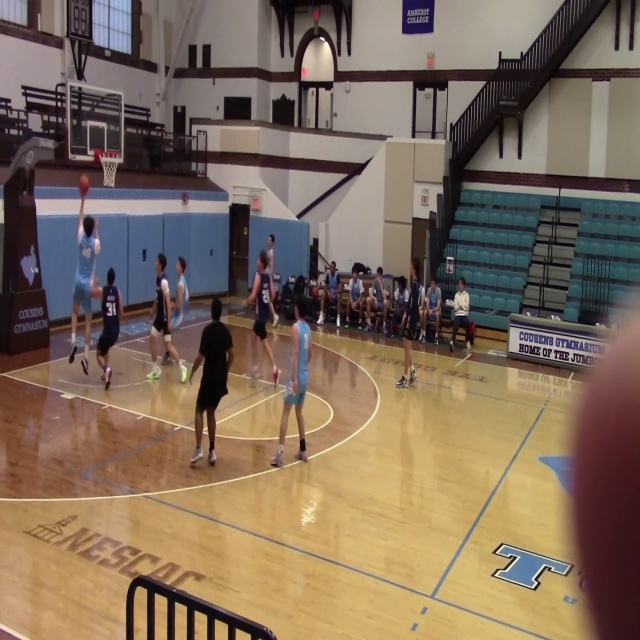Basketball: (79, 174, 89, 196), (90, 285, 102, 298), (272, 369, 279, 378)
